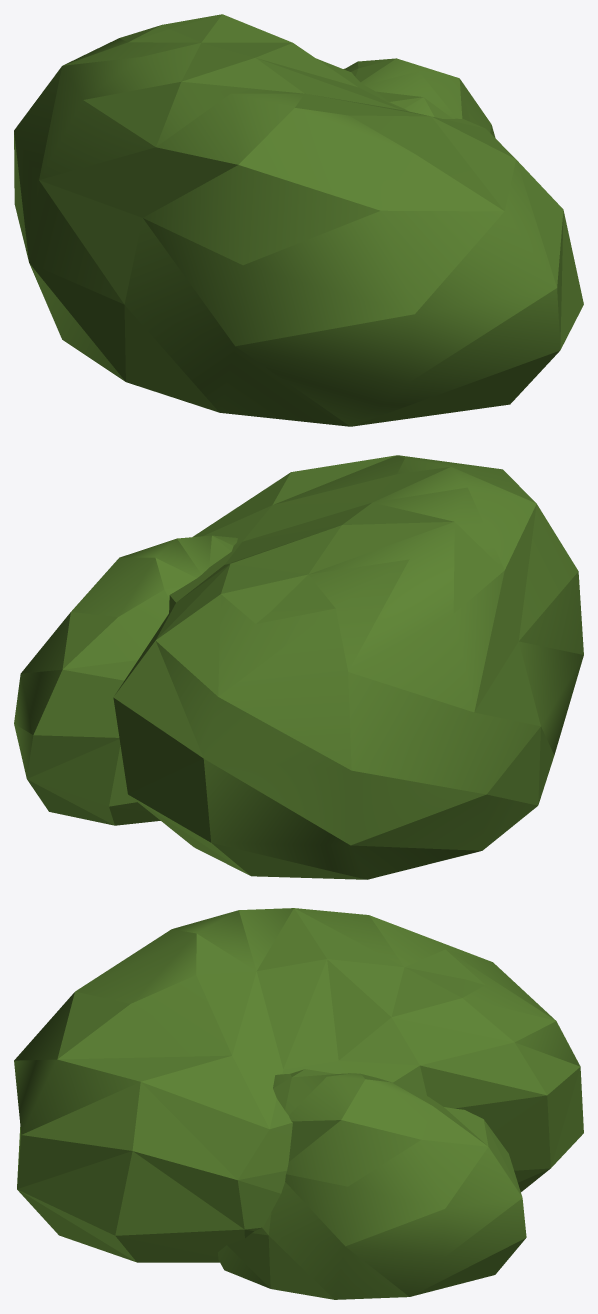
Rendered from a_z1_bush_02.fbx.
The picture shows the model from 3 angles, top to bottom: view 1: azimuth 30°, elevation 25°; view 2: azimuth 150°, elevation 25°; view 3: azimuth 270°, elevation 25°; orthographic projection. The views are drawn at different scales.
Visible parts, largest first — view 1: a_z1_bush_02; view 2: a_z1_bush_02; view 3: a_z1_bush_02.
Part boxes in pixels (x1,y1,x2,y2): a_z1_bush_02: (14, 14, 583, 426); a_z1_bush_02: (14, 455, 583, 879); a_z1_bush_02: (14, 908, 583, 1299).
Size of the model in its own units: 160 by 95.52 by 199.
